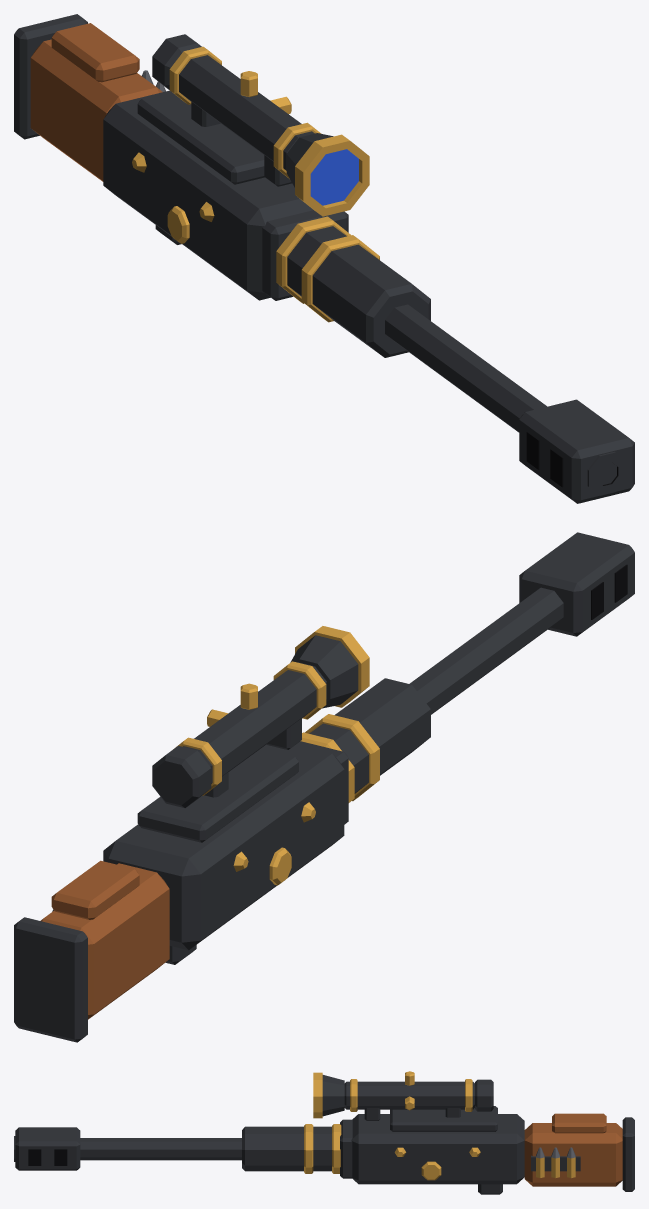
The model's file is SniperA.obj.
The picture shows the model from 3 angles, top to bottom: view 1: azimuth 30°, elevation 25°; view 2: azimuth 150°, elevation 25°; view 3: azimuth 270°, elevation 25°; orthographic projection. The views are drawn at different scales.
Parts seen in each view (by area): view 1: SniperA; view 2: SniperA; view 3: SniperA.
Part boxes in pixels (x1=…): SniperA: x1=14, y1=14, x2=634, y2=503; SniperA: x1=14, y1=532, x2=634, y2=1042; SniperA: x1=14, y1=1071, x2=634, y2=1194.
Bounding box in the file's own units: 0.2742 × 0.51 × 2.4.
